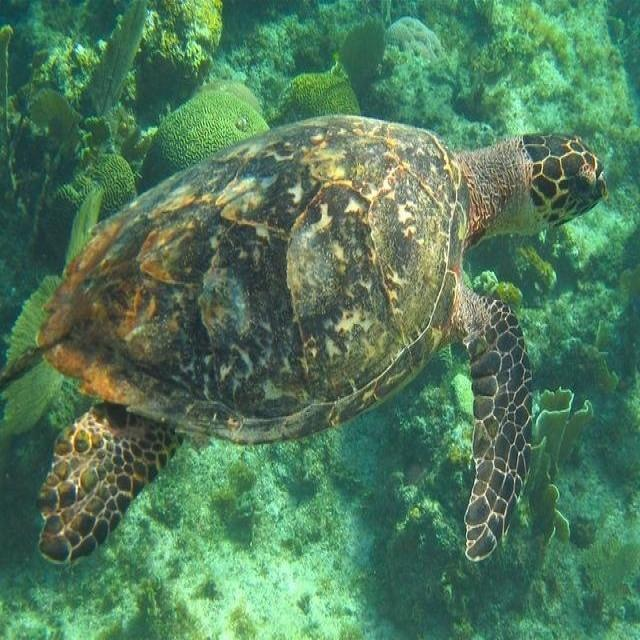fish: (36, 115, 609, 564)
reefs: (134, 92, 270, 195), (46, 153, 138, 263), (268, 73, 361, 125)
